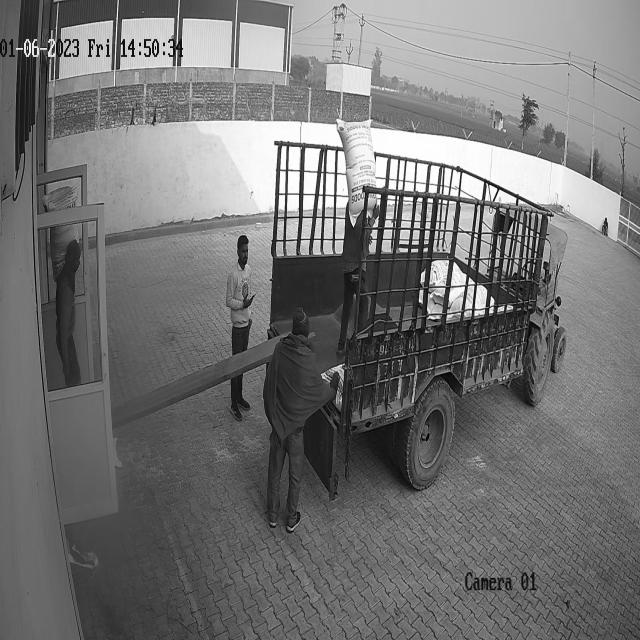sack: (336, 118, 378, 229), (43, 184, 80, 282)
